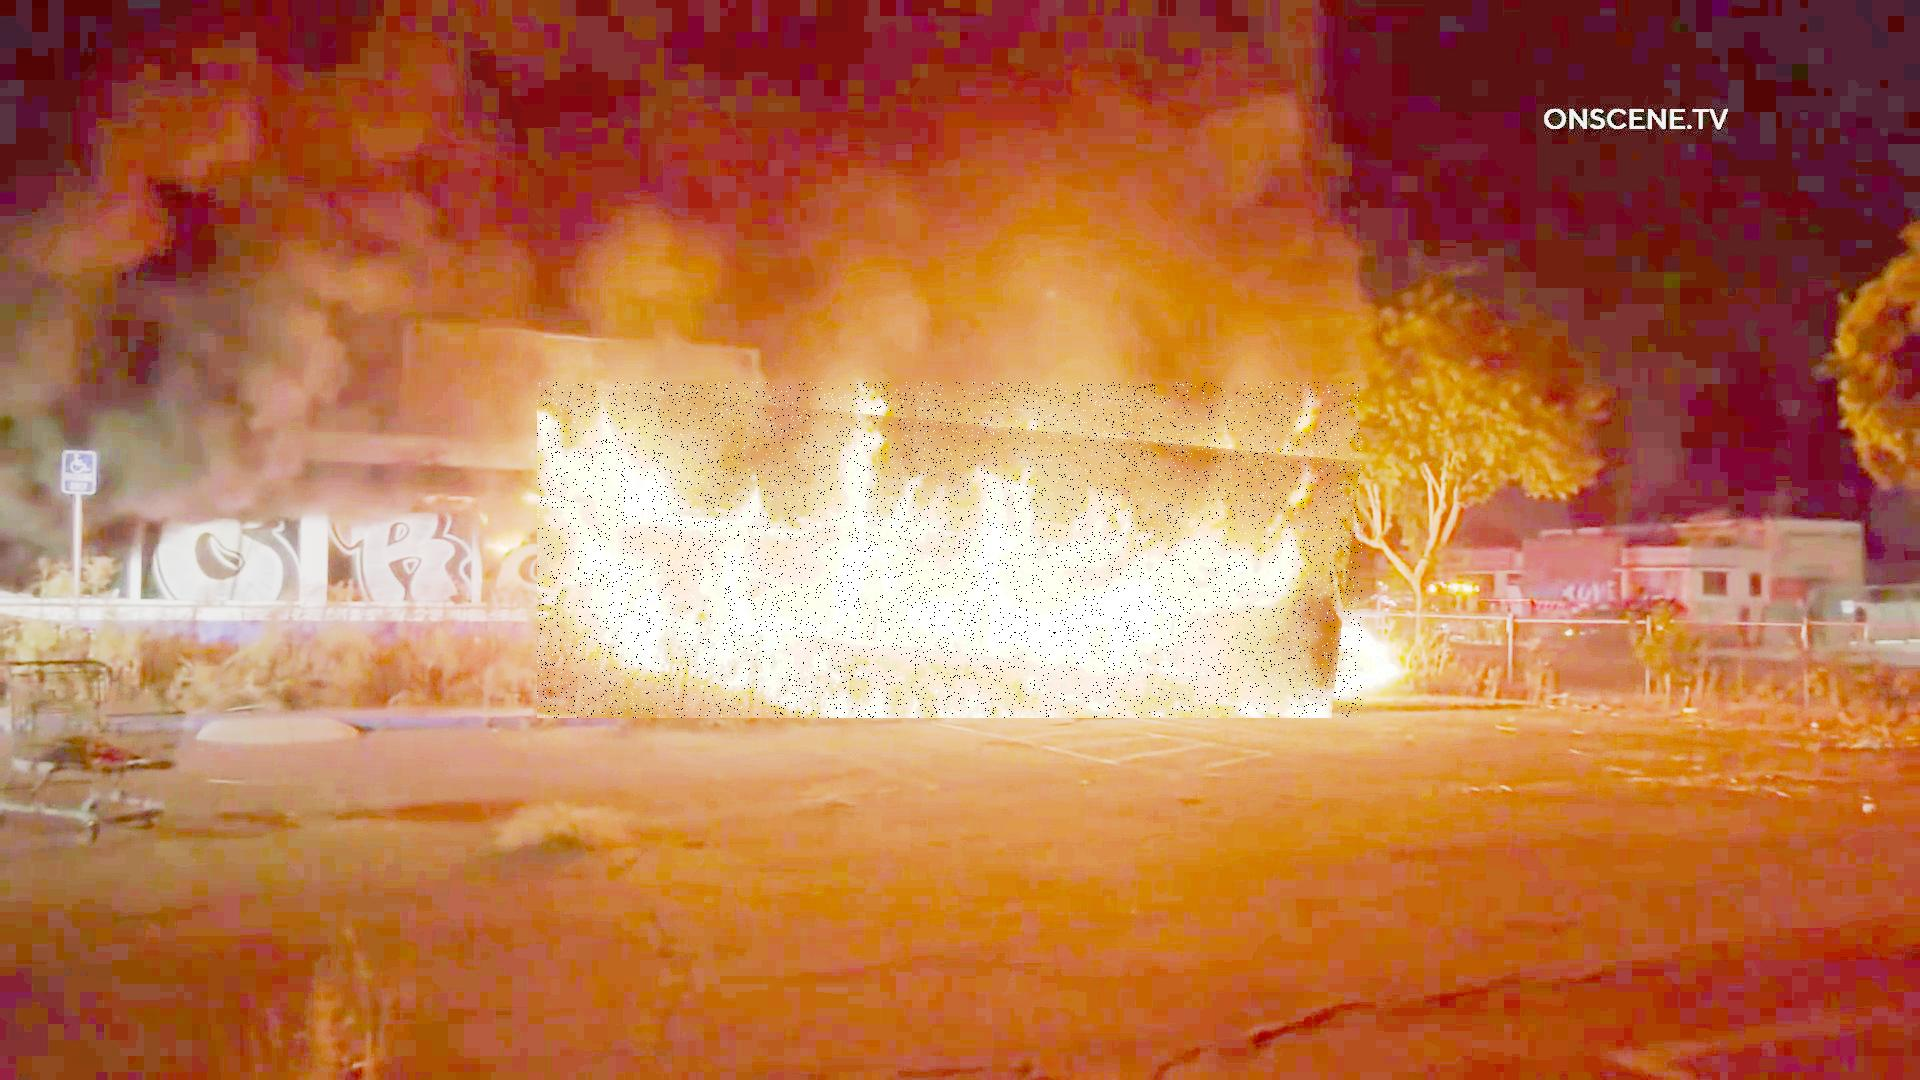fire: (538, 382, 1364, 719)
